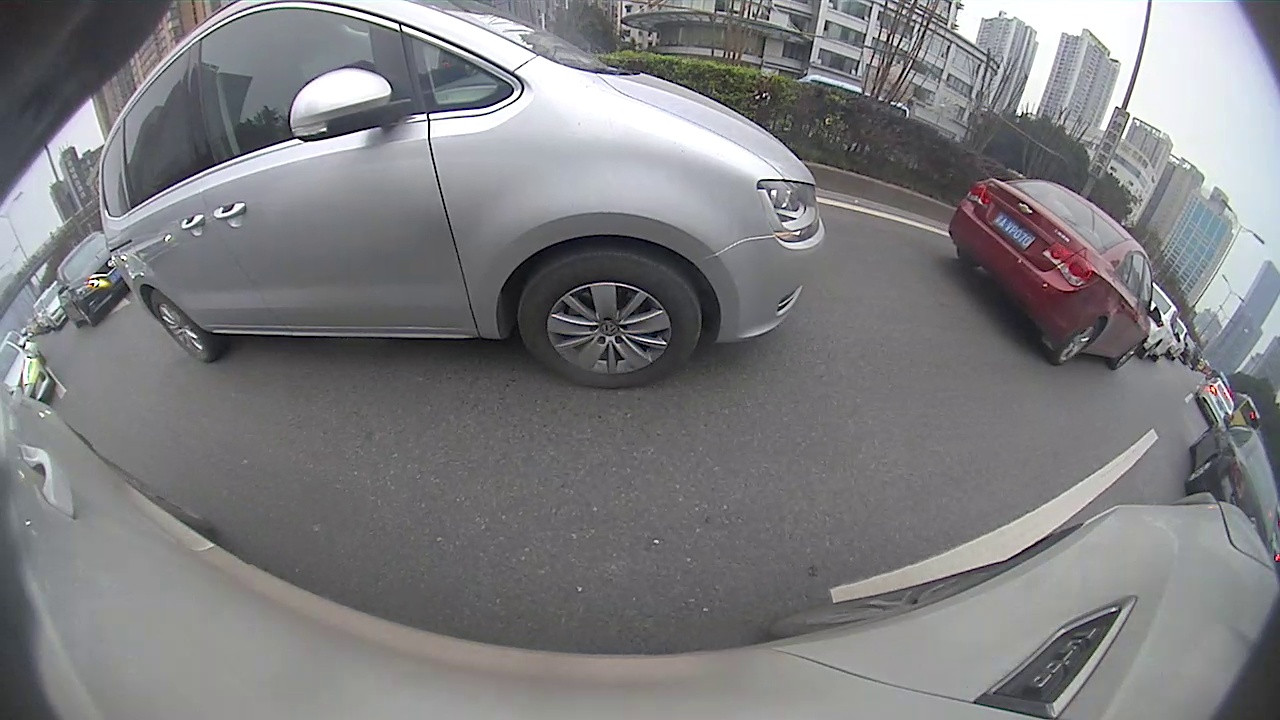car: (95, 1, 828, 391), (946, 178, 1163, 373), (1185, 414, 1278, 566), (54, 229, 129, 328), (1193, 373, 1237, 428)
front: (520, 252, 703, 387)
rear: (151, 287, 212, 364), (1051, 317, 1107, 366)
